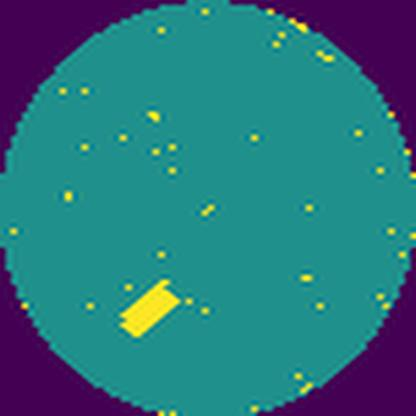Edge-Loc: (113, 275, 186, 342)
